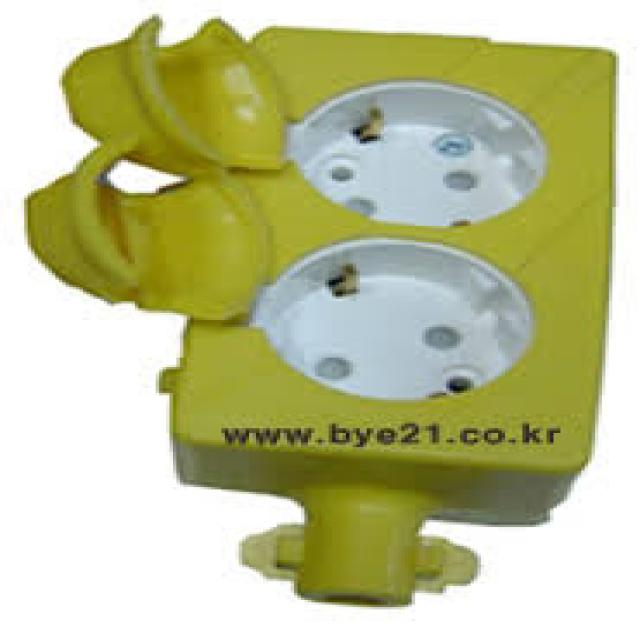typeb: (251, 27, 574, 413)
